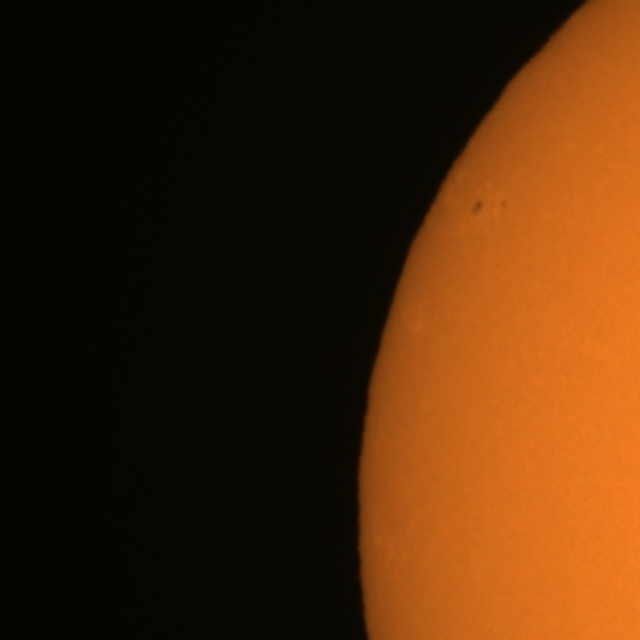sunspot: (469, 196, 509, 218), (470, 198, 486, 218), (499, 198, 509, 212)
